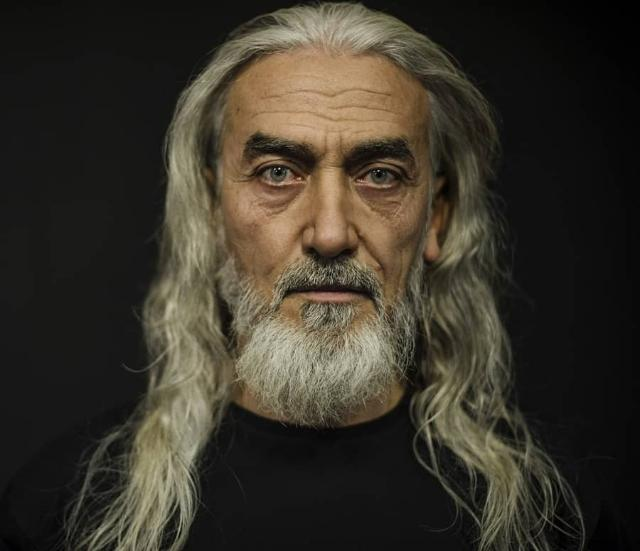crows_feet: (231, 166, 255, 188), (403, 173, 425, 193)
forehead: (308, 84, 402, 116), (252, 89, 286, 123)
frown_line: (319, 127, 346, 164)
gummy_smile: (351, 228, 384, 268)
masseter: (395, 252, 407, 300)
